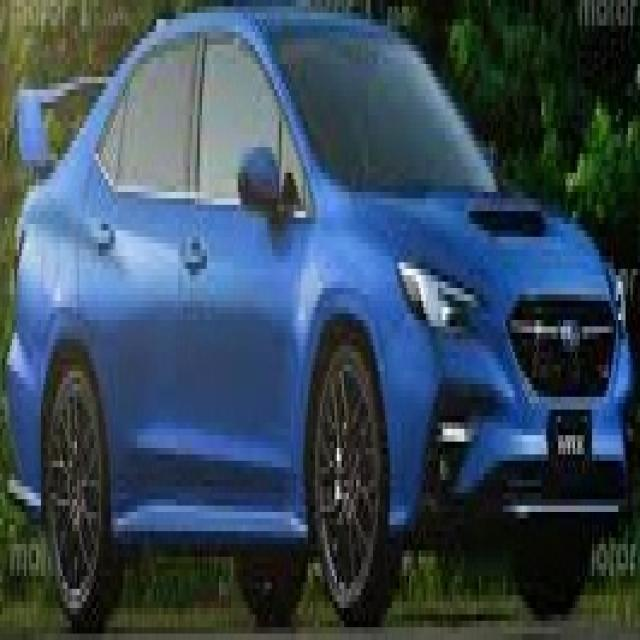blue: (7, 5, 627, 581)
